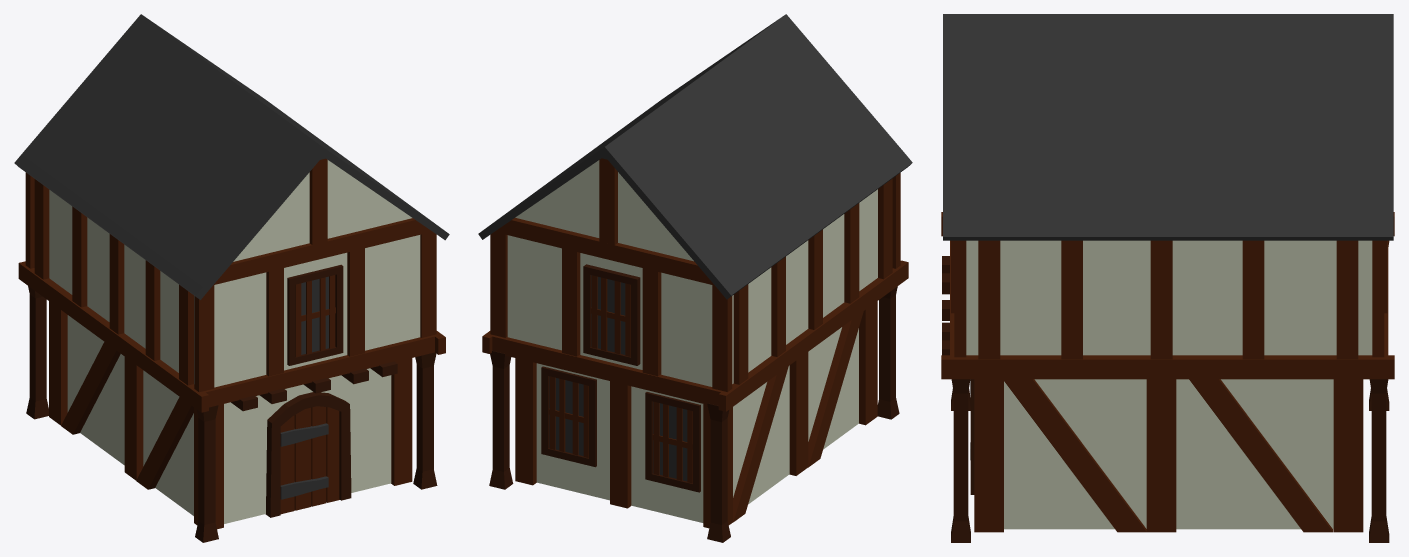
File: medieval_house_1.FBX
3 renders of one model, left to right at view 1: azimuth 30°, elevation 25°; view 2: azimuth 150°, elevation 25°; view 3: azimuth 270°, elevation 25°, orthographic. The views are drawn at different scales.
Visible parts, largest first — view 1: House; view 2: House; view 3: House.
Boxes of the visible parts, box(x1,y1,x2,y2) form: House: box(14, 14, 449, 542); House: box(478, 14, 912, 542); House: box(941, 14, 1394, 542).
Bounding box in the file's own units: 1560 × 2174 × 1949.
